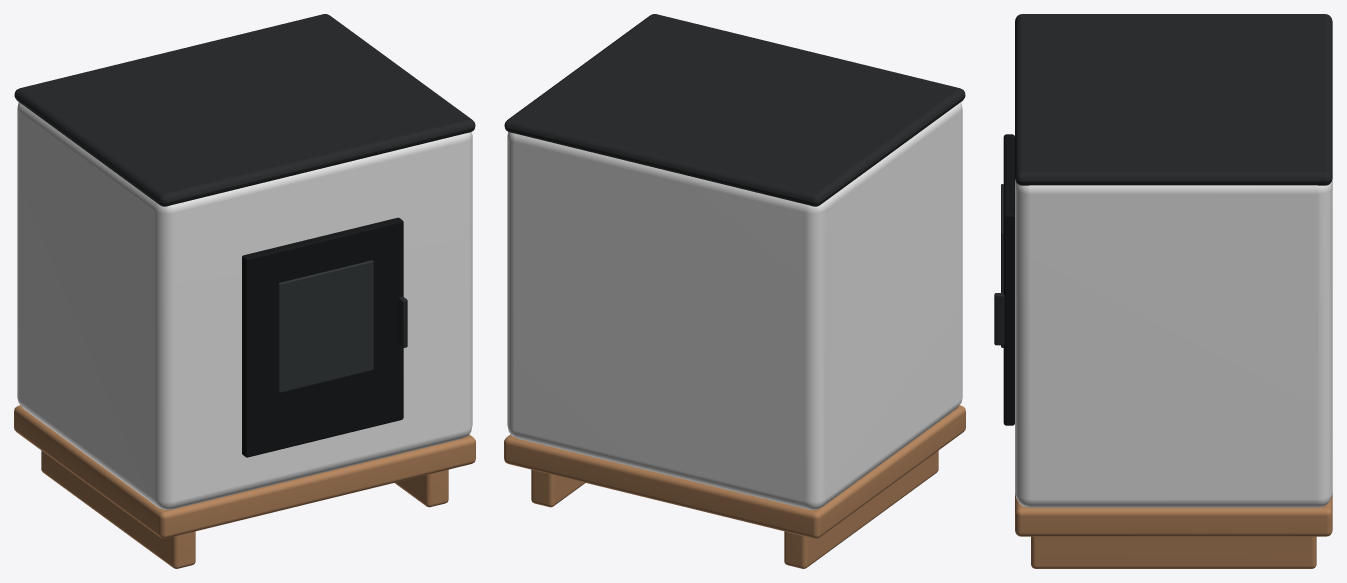
The model's file is ravelli-aria-bianco.glb.
The picture shows the model from 3 angles, left to right: view 1: azimuth 30°, elevation 25°; view 2: azimuth 150°, elevation 25°; view 3: azimuth 270°, elevation 25°; orthographic projection. The views are drawn at different scales.
Visible parts, largest first — view 1: Corpo, Coperchio, Cornice porta, Basamento legno, Vetro sportello, Piede legno, Piede legno.001; view 2: Corpo, Coperchio, Basamento legno, Piede legno, Piede legno.001; view 3: Corpo, Coperchio, Basamento legno, Piede legno.001, Cornice porta, Maniglia.
Boxes of the visible parts, x1,y1,x2,y2 form: Corpo: (17,102,472,509); Coperchio: (14,14,475,206); Cornice porta: (242,217,403,457); Basamento legno: (14,405,475,538); Vetro sportello: (278,260,373,392); Piede legno: (41,450,195,568); Piede legno.001: (395,469,448,507); Corpo: (507,102,962,509); Coperchio: (504,14,965,206); Basamento legno: (504,405,965,538); Piede legno: (784,450,938,568); Piede legno.001: (531,469,584,507); Corpo: (1015,179,1332,507); Coperchio: (1015,14,1332,185); Basamento legno: (1015,493,1332,536); Piede legno.001: (1031,536,1316,568); Cornice porta: (1003,134,1014,425); Maniglia: (994,293,1004,345).
Size of the model in its own units: 0.62 by 0.72 by 0.543.
